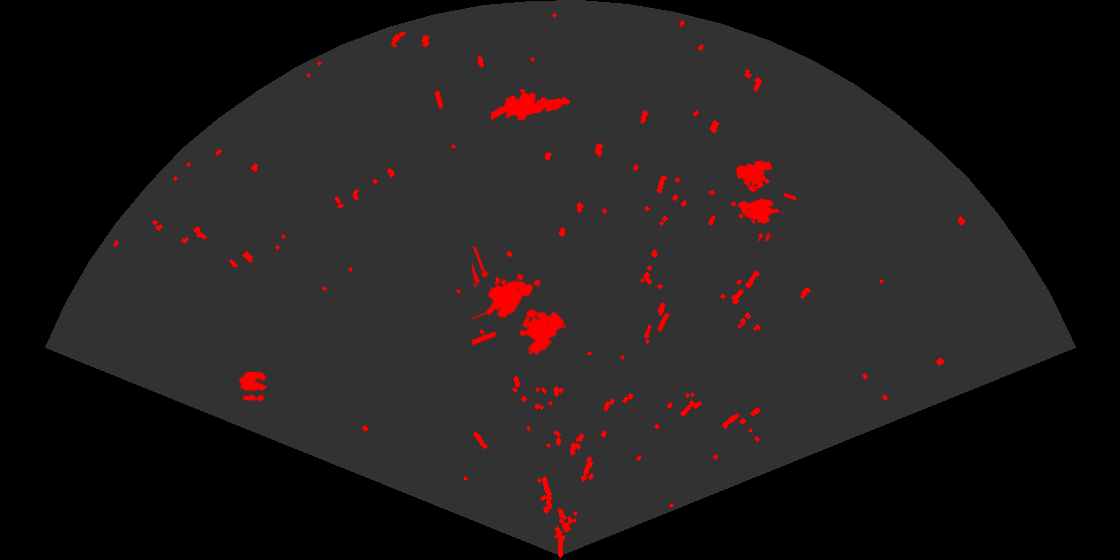ball: (237, 370, 269, 403)
cage: (472, 247, 566, 357), (729, 159, 796, 241)
frogman: (491, 87, 572, 122)
